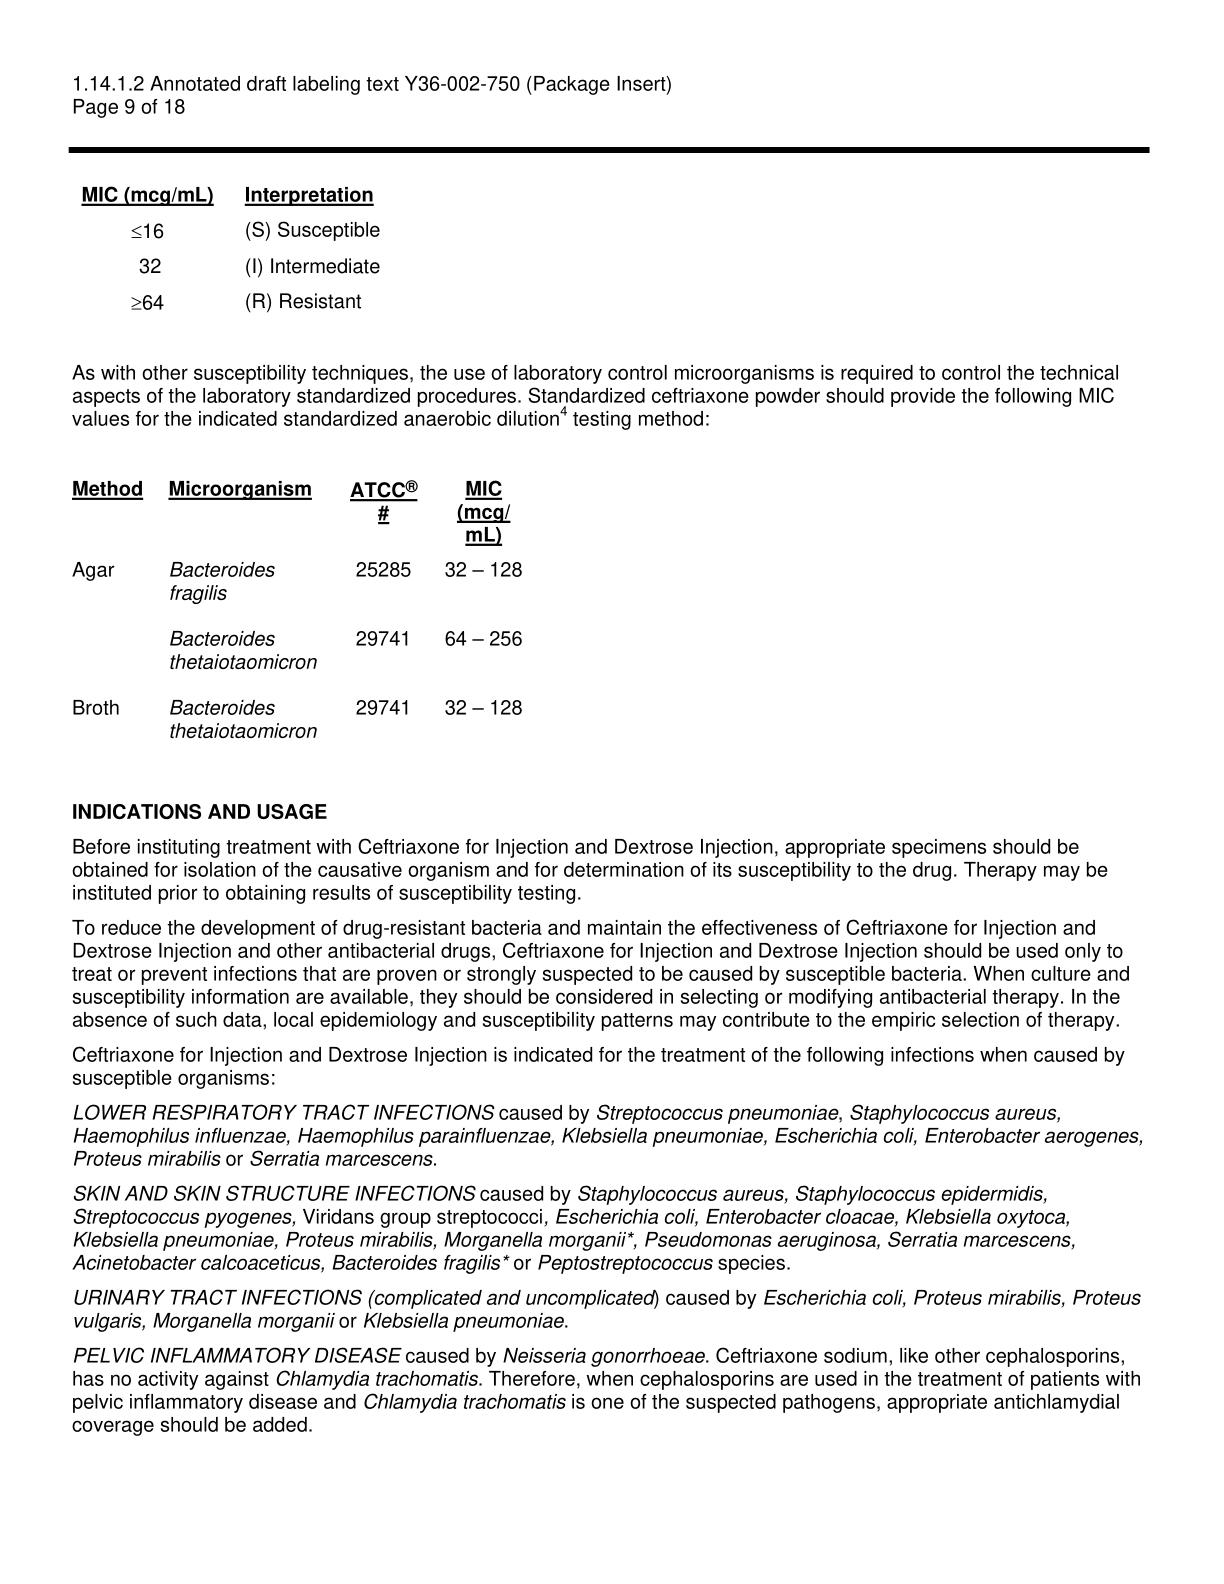nolines: (60, 467, 543, 748), (68, 172, 390, 323)
